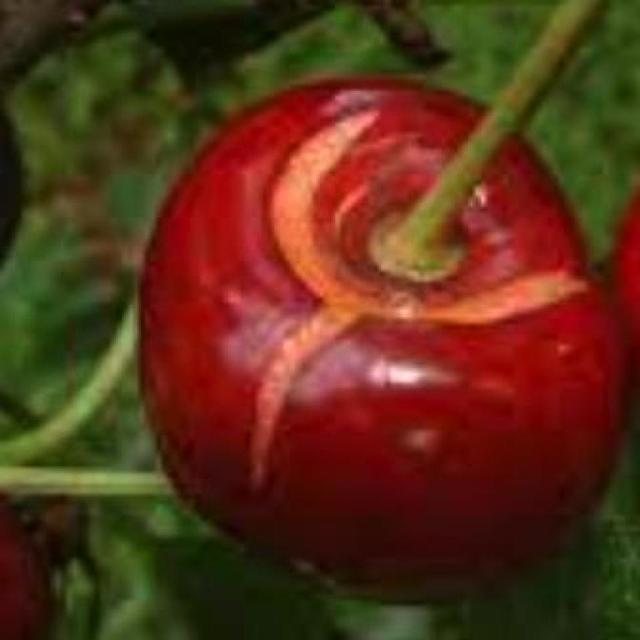Cracking Fruit: (156, 63, 391, 338)
